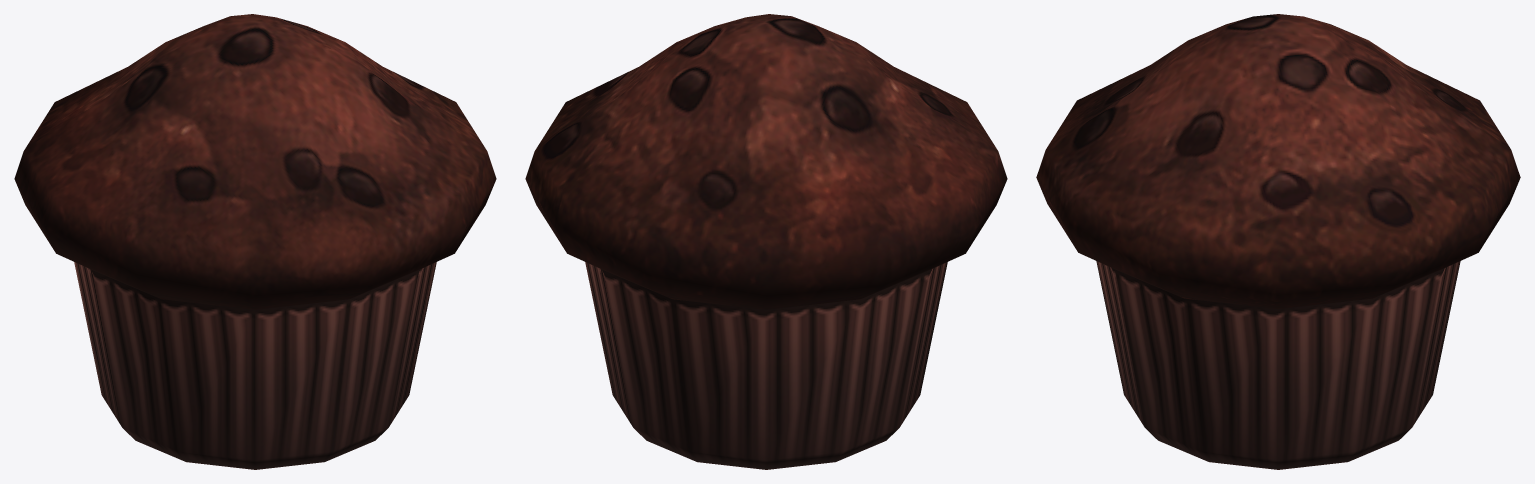
Rendered from 010-Muffins_002.FBX.
3 renders of one model, left to right at view 1: azimuth 30°, elevation 25°; view 2: azimuth 150°, elevation 25°; view 3: azimuth 270°, elevation 25°, orthographic.
Parts seen in each view (by area): view 1: 010-Muffins_002; view 2: 010-Muffins_002; view 3: 010-Muffins_002.
Boxes of the visible parts, left/top/right/bottom form: 010-Muffins_002: left=14, top=14, right=496, bottom=469; 010-Muffins_002: left=525, top=14, right=1007, bottom=469; 010-Muffins_002: left=1036, top=14, right=1520, bottom=469.
Size of the model in its own units: 19.43 by 17.2 by 19.43.
